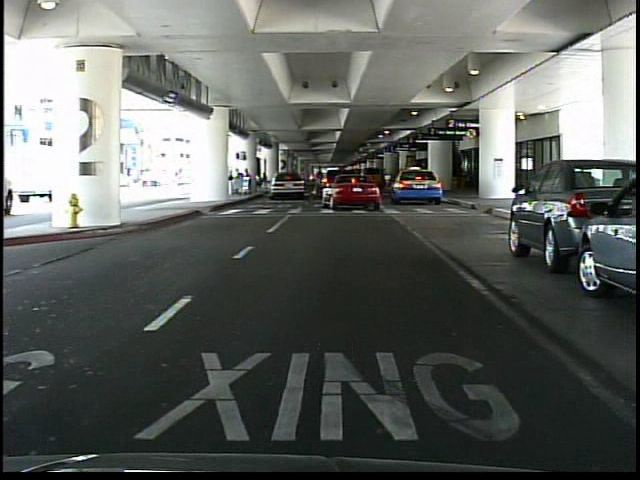person: (313, 165, 324, 198)
